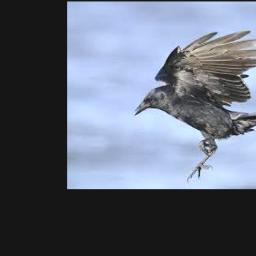Crow: (133, 30, 256, 185)
